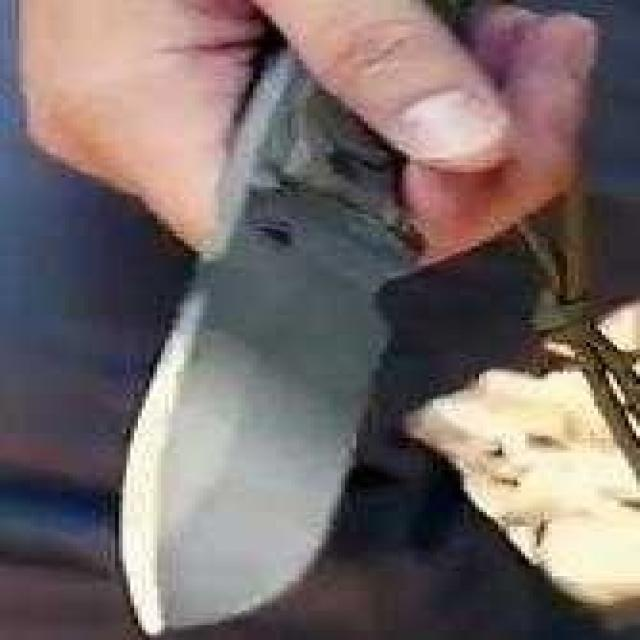Knife: (114, 0, 518, 639)
